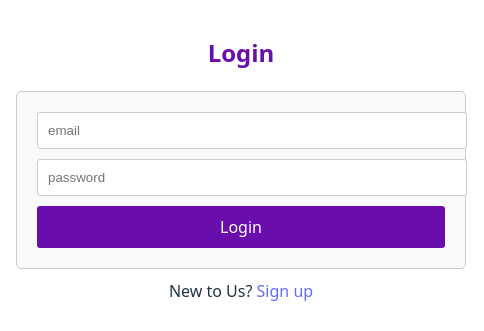
Test: bad user sees an error
The image size is (484, 331).
Type "bad@user.com" into the field with placeholder "email". click: (252, 130)
box: [37,112,467,149]
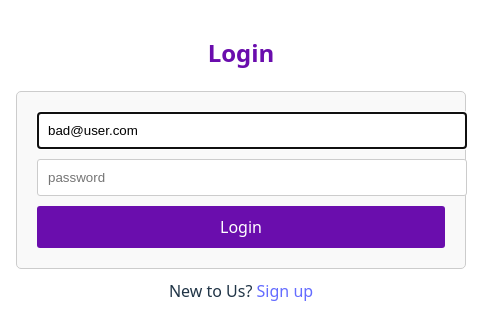
Type "wrongpass" into the password field with placeholder "password". click: (252, 178)
box: [37,159,467,196]
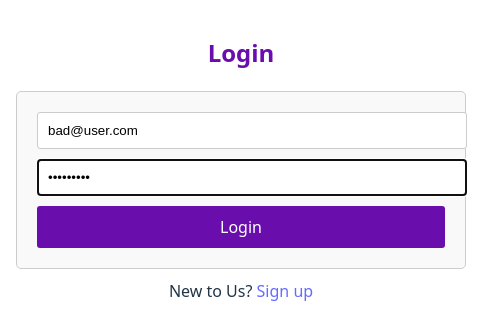
Click the button "Login". click: (241, 227)
box: [37,206,445,248]
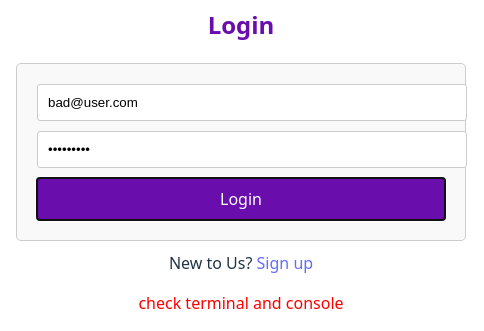
expect the text "check terminal and console" is shown: met, box [138,292,344,314]
